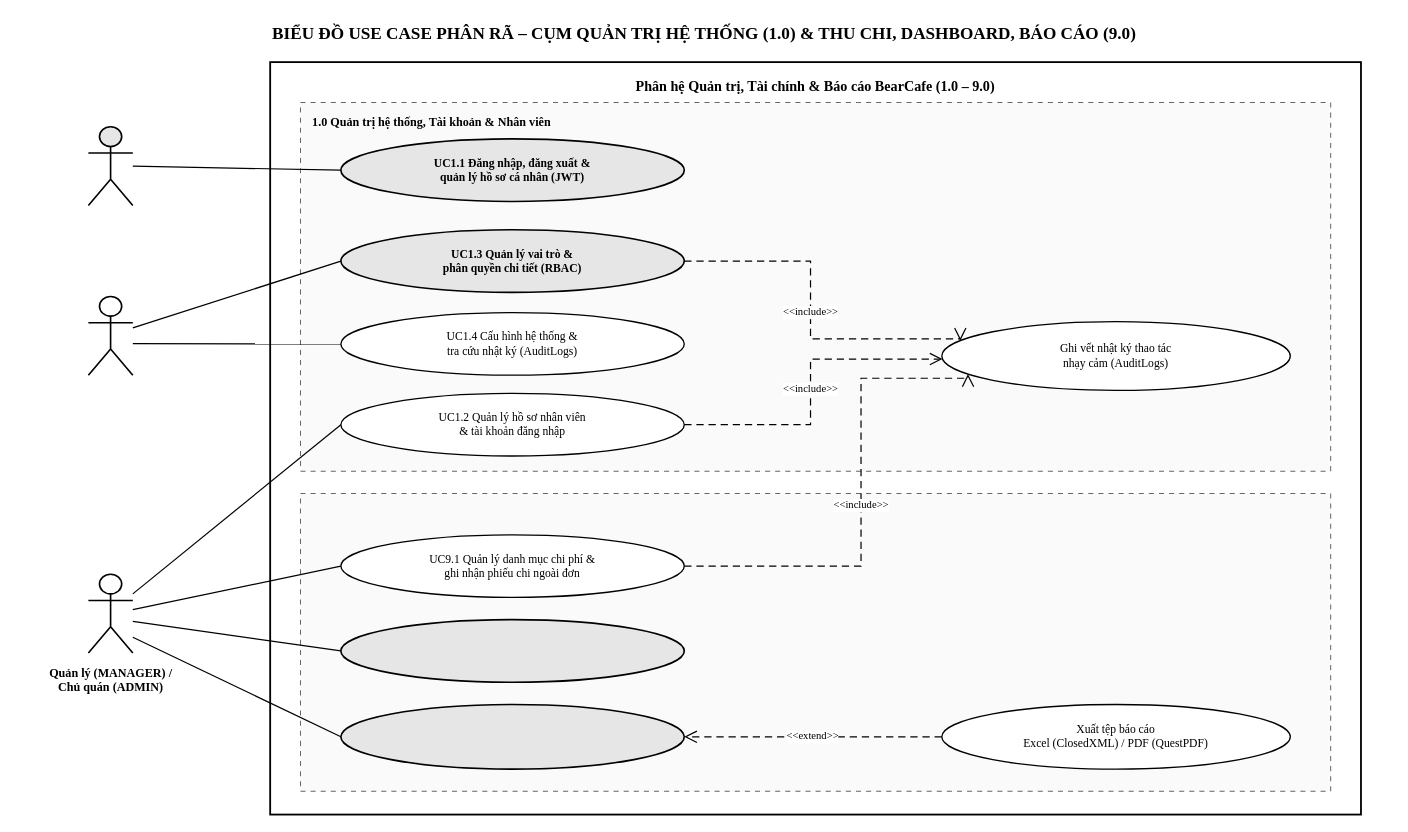
This 1408x832 diagram has some shape labels left out. Each missing label, with the box of its shape:
9.0 Quản lý Thu chi, Dashboard & Báo cáo: (299, 492, 1331, 791)
Chủ quán (ADMIN): (87, 295, 133, 376)
Người dùng hệ thống (User – 5 vai trò): (87, 125, 133, 206)
UC9.2 Xem Dashboard tổng quan theo bộ lọc thời gian: (340, 618, 685, 683)
UC9.3 Lập báo cáo doanh thu, top món, khung giờ & tồn kho: (340, 703, 685, 769)
